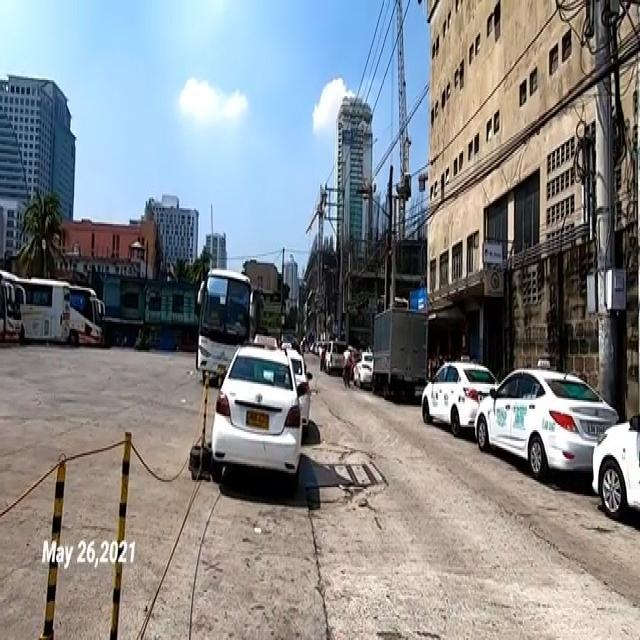bus: (196, 266, 254, 384), (18, 272, 71, 344), (68, 286, 104, 350), (2, 268, 25, 347)
car: (474, 351, 618, 491), (212, 346, 302, 479), (421, 362, 498, 444)
truck: (372, 305, 428, 403)
